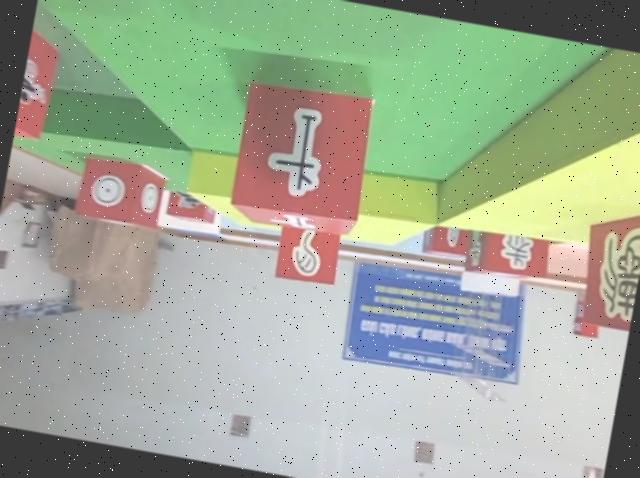R1: (13, 10, 63, 142), (163, 181, 220, 228)
R2 Fake: (571, 200, 640, 333), (458, 213, 553, 288), (275, 212, 344, 286)
R2 Real: (227, 78, 375, 241), (74, 152, 167, 228)
